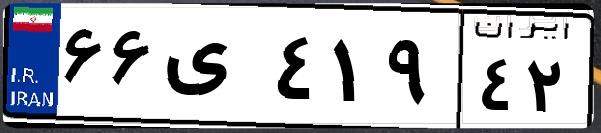1: (330, 28, 385, 110)
2: (525, 38, 570, 115)
4: (270, 28, 330, 110), (475, 38, 525, 113)
6: (57, 26, 110, 100), (110, 28, 158, 98)
9: (385, 28, 445, 110)
ی: (158, 20, 270, 120)
